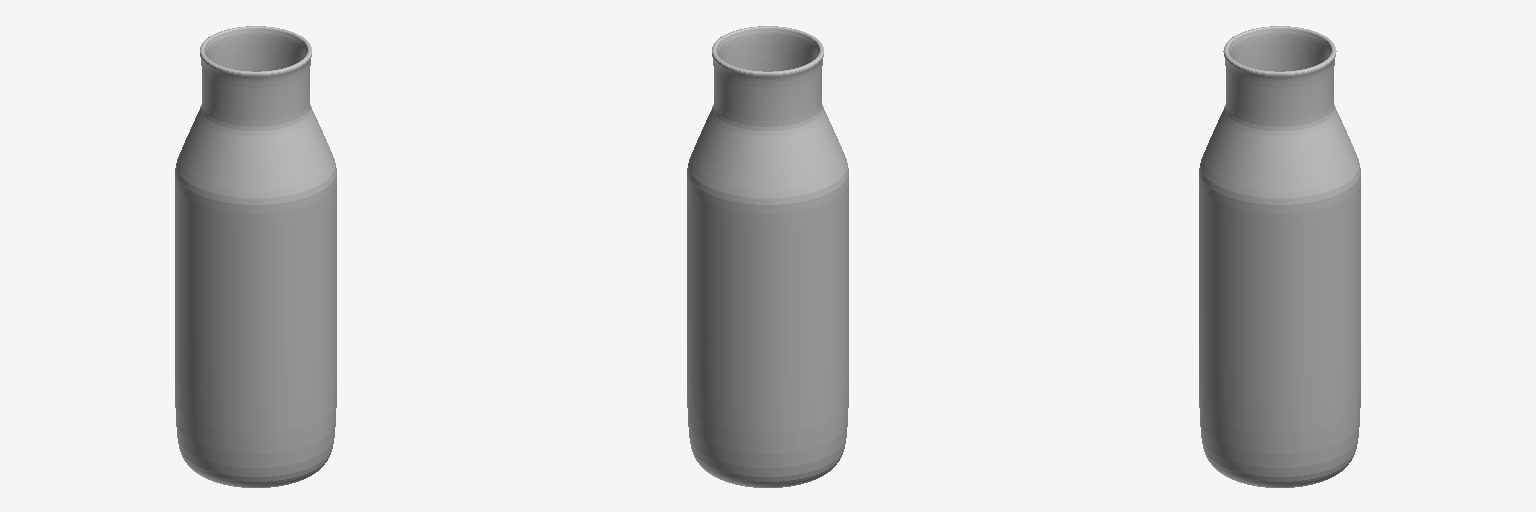
Rendered from Carafe_with_stopper.obj.
The picture shows the model from 3 angles: view 1: azimuth 30°, elevation 25°; view 2: azimuth 150°, elevation 25°; view 3: azimuth 270°, elevation 25°; orthographic projection.
Visible parts, largest first — view 1: Bottle_Cylinder.003; view 2: Bottle_Cylinder.003; view 3: Bottle_Cylinder.003.
Part boxes in pixels (left/top/right/bottom): Bottle_Cylinder.003: left=175, top=26, right=336, bottom=487; Bottle_Cylinder.003: left=687, top=26, right=848, bottom=487; Bottle_Cylinder.003: left=1199, top=26, right=1360, bottom=487.
Size of the model in its own units: 0.0894 by 0.2507 by 0.0894.